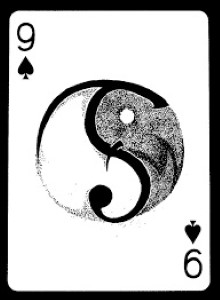NineOfSpades: (5, 6, 210, 292)
